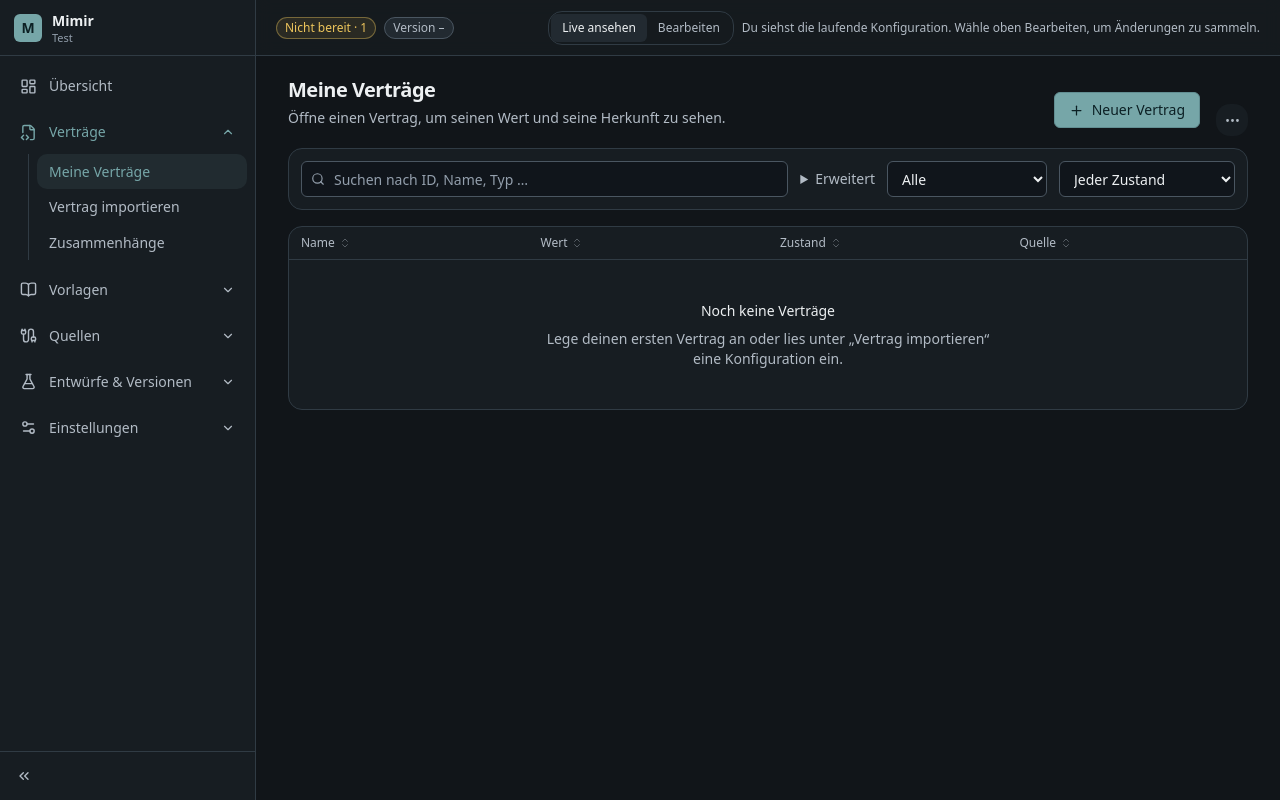
Scenario: opens creation on #/contracts/list/all with an automatic draft and no route change
Click the button "Neuer Vertrag" at (1127, 110), box left=1054, top=92, right=1200, bottom=128
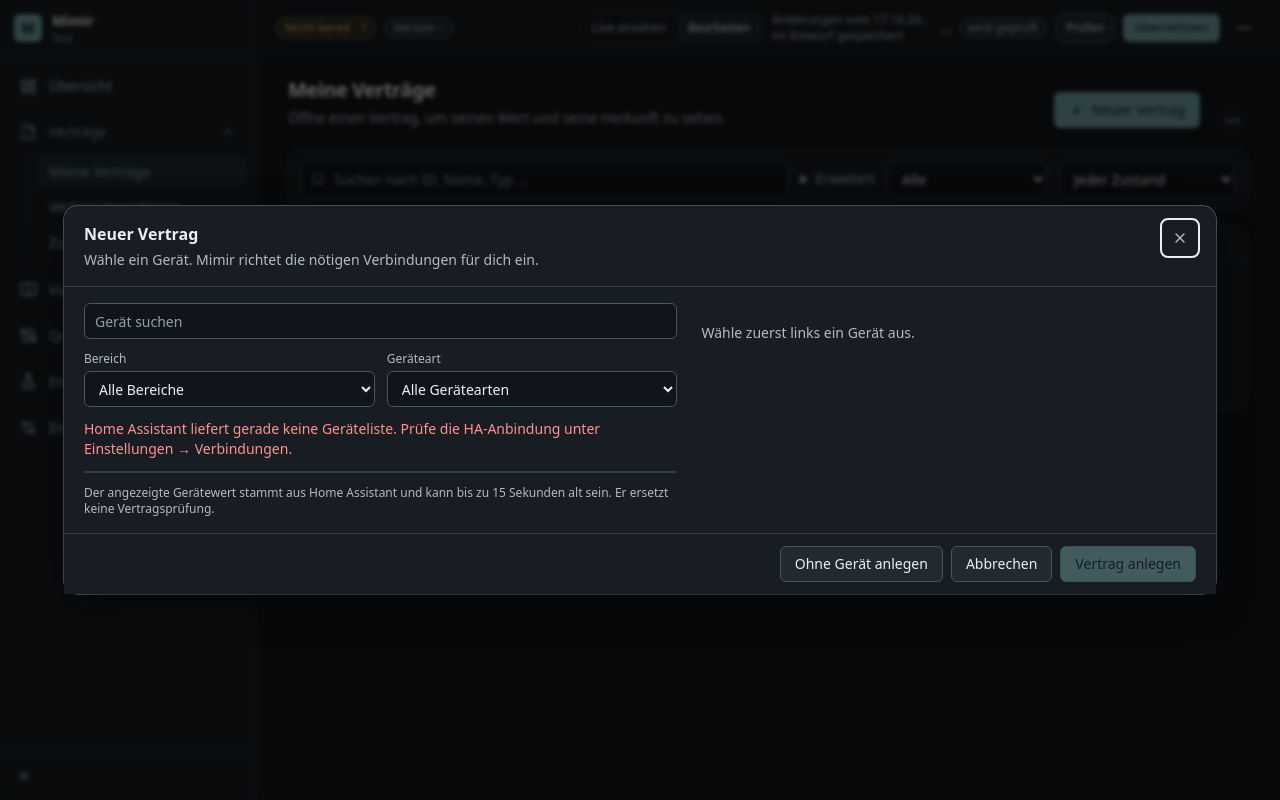
Now the dialog "Neuer Vertrag" is shown, box left=64, top=206, right=1216, bottom=594
